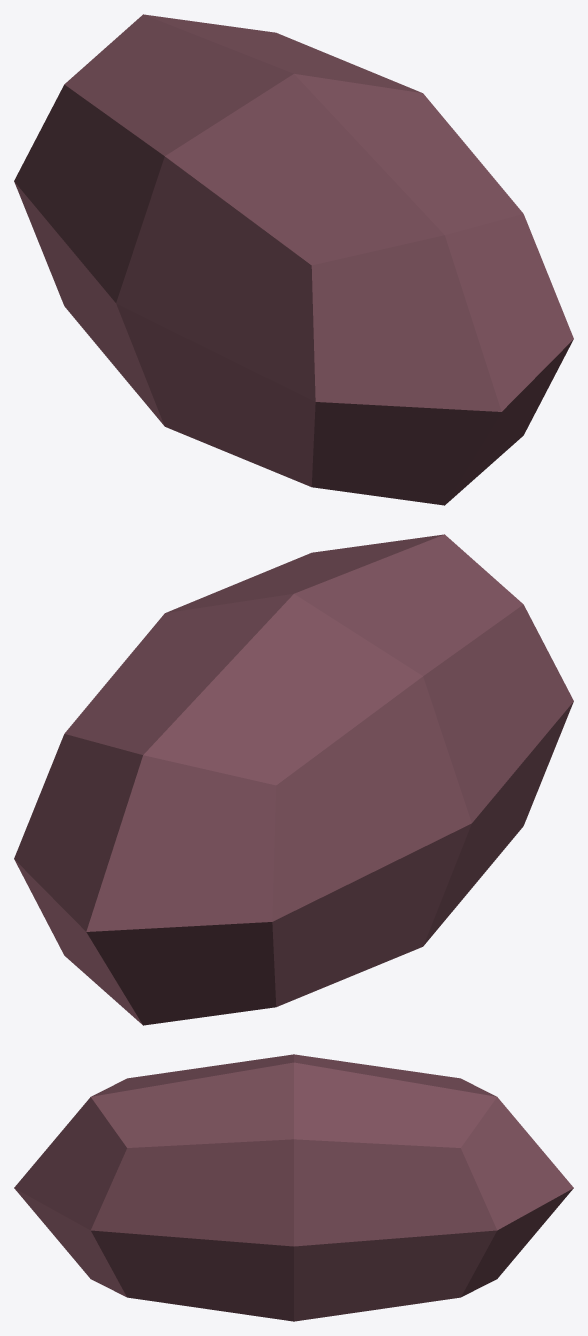
File: desertrock6.fbx
3 renders of one model, top to bottom at view 1: azimuth 30°, elevation 25°; view 2: azimuth 150°, elevation 25°; view 3: azimuth 270°, elevation 25°, orthographic. The views are drawn at different scales.
Parts seen in each view (by area): view 1: Cube.033; view 2: Cube.033; view 3: Cube.033.
Boxes of the visible parts, <box> form: Cube.033: <box>14,14,573,505</box>; Cube.033: <box>14,534,573,1025</box>; Cube.033: <box>14,1054,573,1321</box>.
Bounding box in the file's own units: 26.72 × 26.72 × 54.03.
